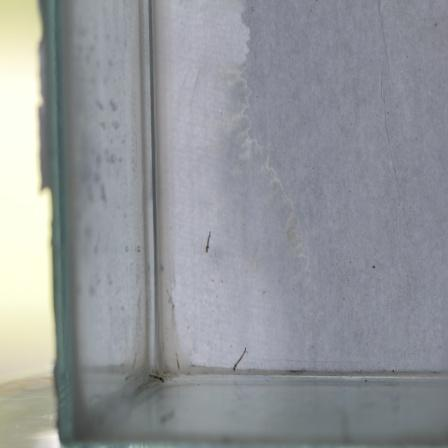Jentik-Nyamuk: (227, 343, 252, 375), (200, 225, 217, 256), (149, 367, 169, 389)
